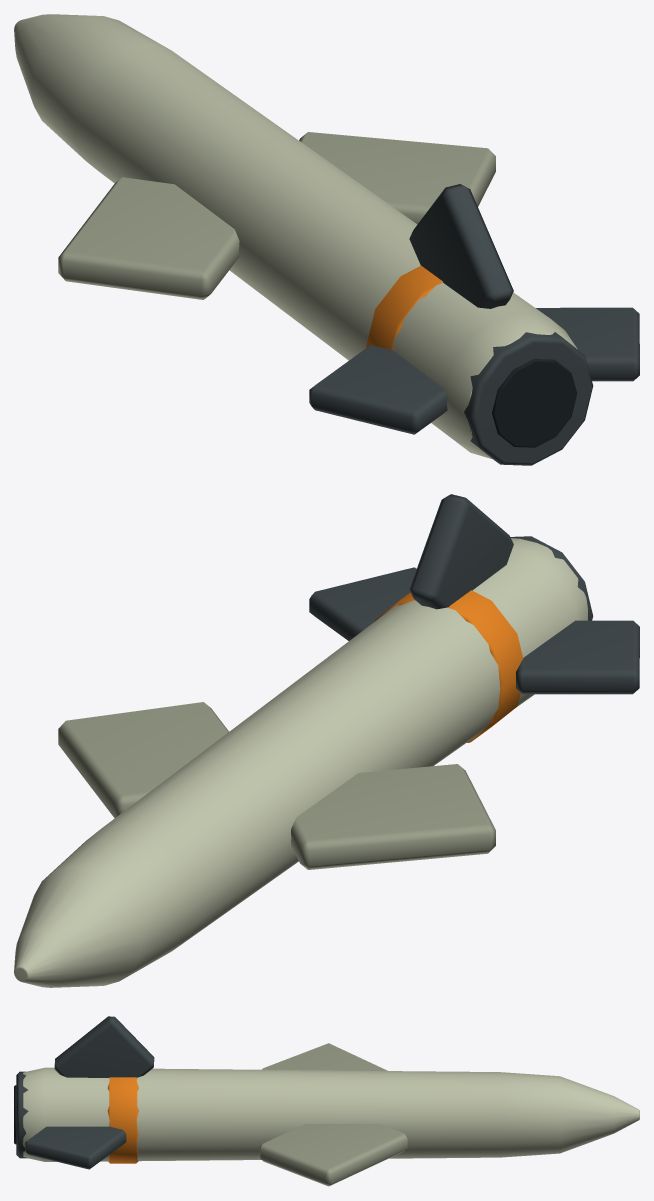
The model's file is military-truck-missile.glb.
The picture shows the model from 3 angles, top to bottom: view 1: azimuth 30°, elevation 25°; view 2: azimuth 150°, elevation 25°; view 3: azimuth 270°, elevation 25°; orthographic projection. The views are drawn at different scales.
Parts seen in each view (by area): view 1: TurretShell; view 2: TurretShell; view 3: TurretShell.
Boxes of the visible parts, bbox=[...] form: TurretShell: bbox=[14, 14, 639, 465]; TurretShell: bbox=[14, 494, 639, 987]; TurretShell: bbox=[14, 1016, 639, 1186].
Size of the model in its own units: 0.7399 by 0.378 by 1.53.
